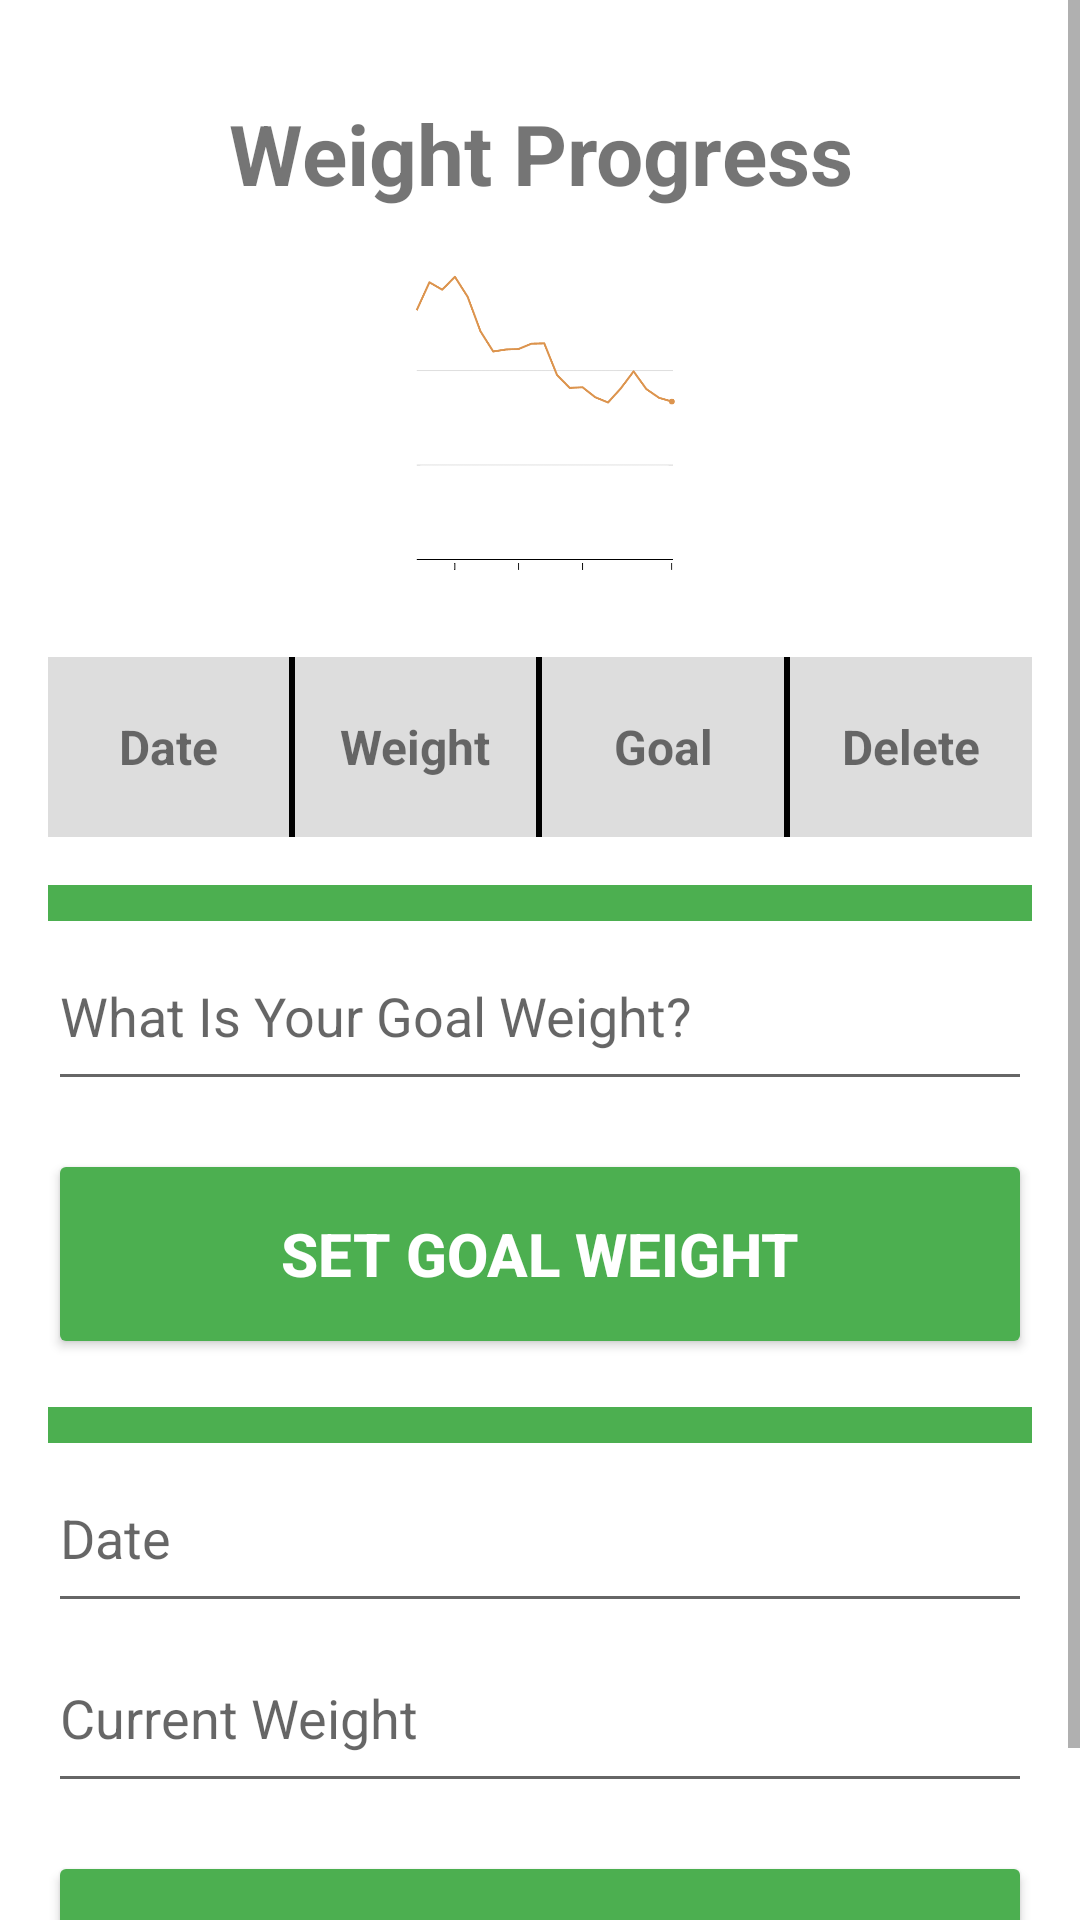

Where icons sit on this 1080 × 1920 app screen, as (x1, y1, x2, y2):
line graph: (416, 276, 675, 570)
